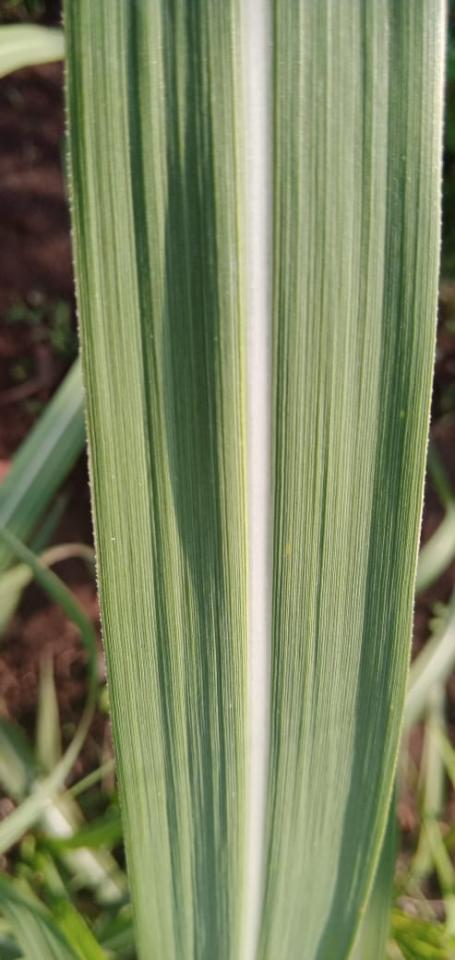Healthy: (261, 0, 447, 959), (64, 0, 246, 959)
